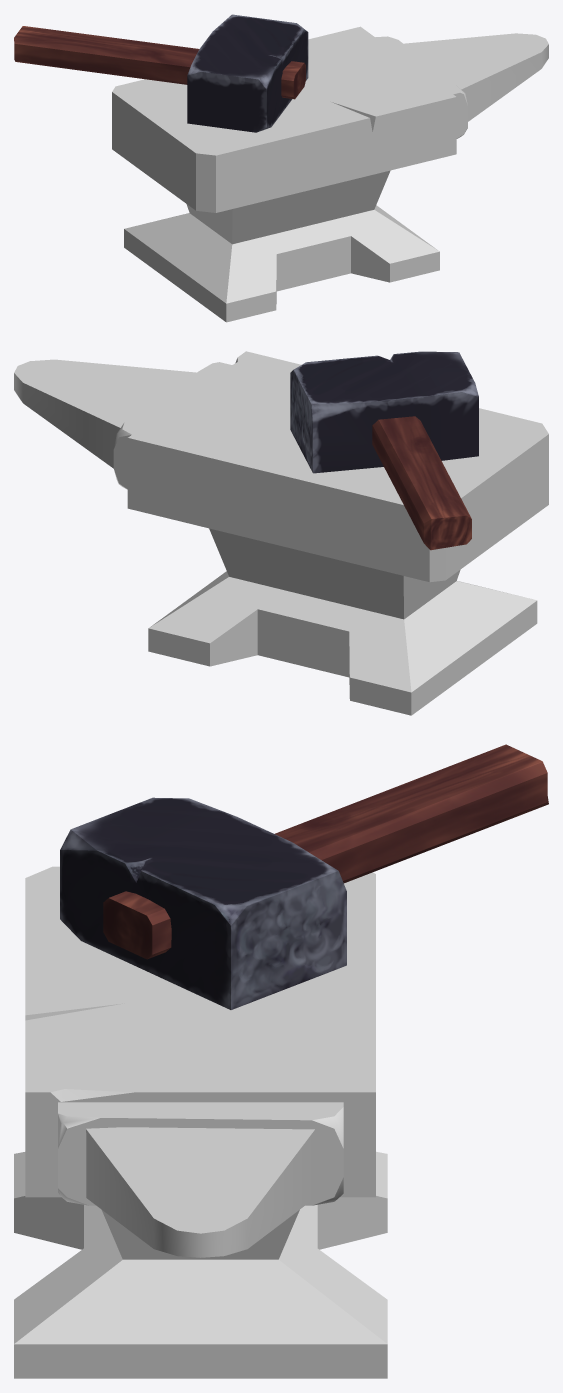
The model's file is Forge.fbx.
The picture shows the model from 3 angles, top to bottom: view 1: azimuth 30°, elevation 25°; view 2: azimuth 150°, elevation 25°; view 3: azimuth 270°, elevation 25°; orthographic projection. The views are drawn at different scales.
Parts seen in each view (by area): view 1: Forge, Hammer; view 2: Forge, Hammer; view 3: Forge, Hammer.
Boxes of the visible parts, bbox=[...] form: Forge: bbox=[112, 26, 548, 322]; Hammer: bbox=[14, 14, 308, 132]; Forge: bbox=[14, 351, 548, 715]; Hammer: bbox=[290, 351, 478, 550]; Forge: bbox=[14, 866, 387, 1378]; Hammer: bbox=[60, 744, 548, 1009].
Bounding box in the file's own units: 475 × 222 × 268.
